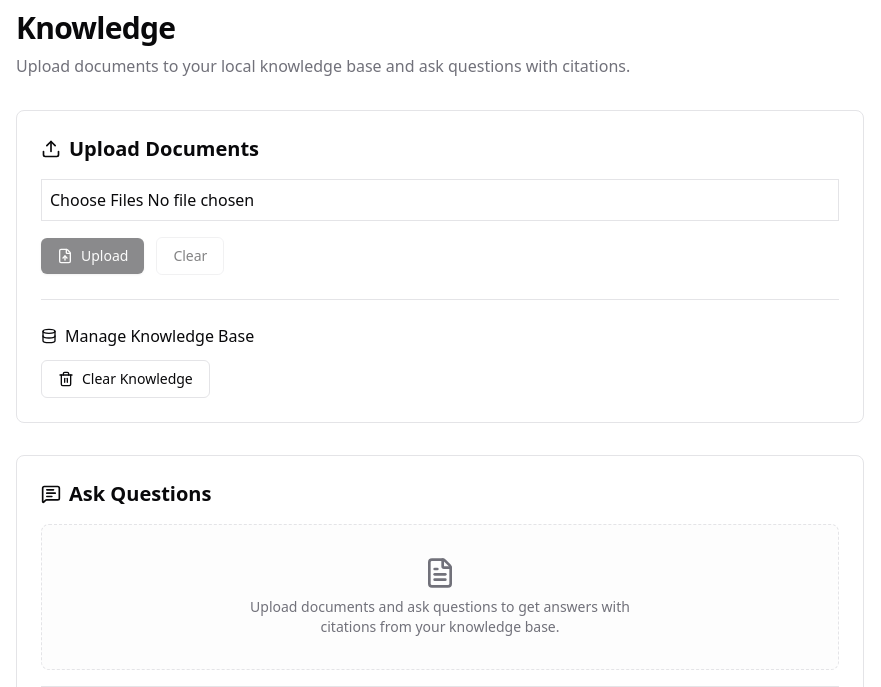
it: KnowledgePage › surfaces reset failures
Click the button "Clear Knowledge" at (125, 379), box [41,360,210,398]
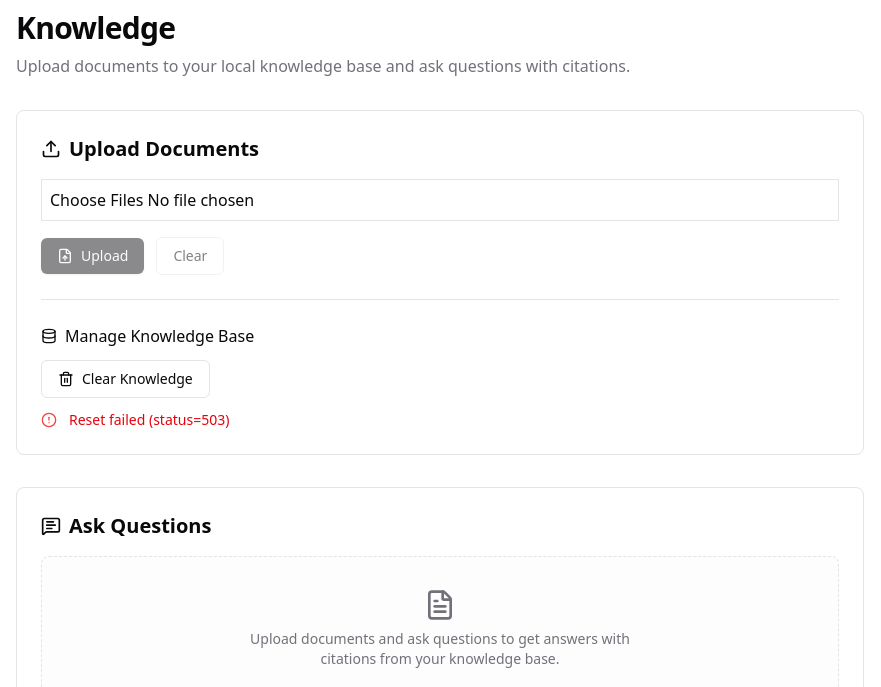
Now the text "Reset failed (status=503)" is shown, box [69,410,229,430]
